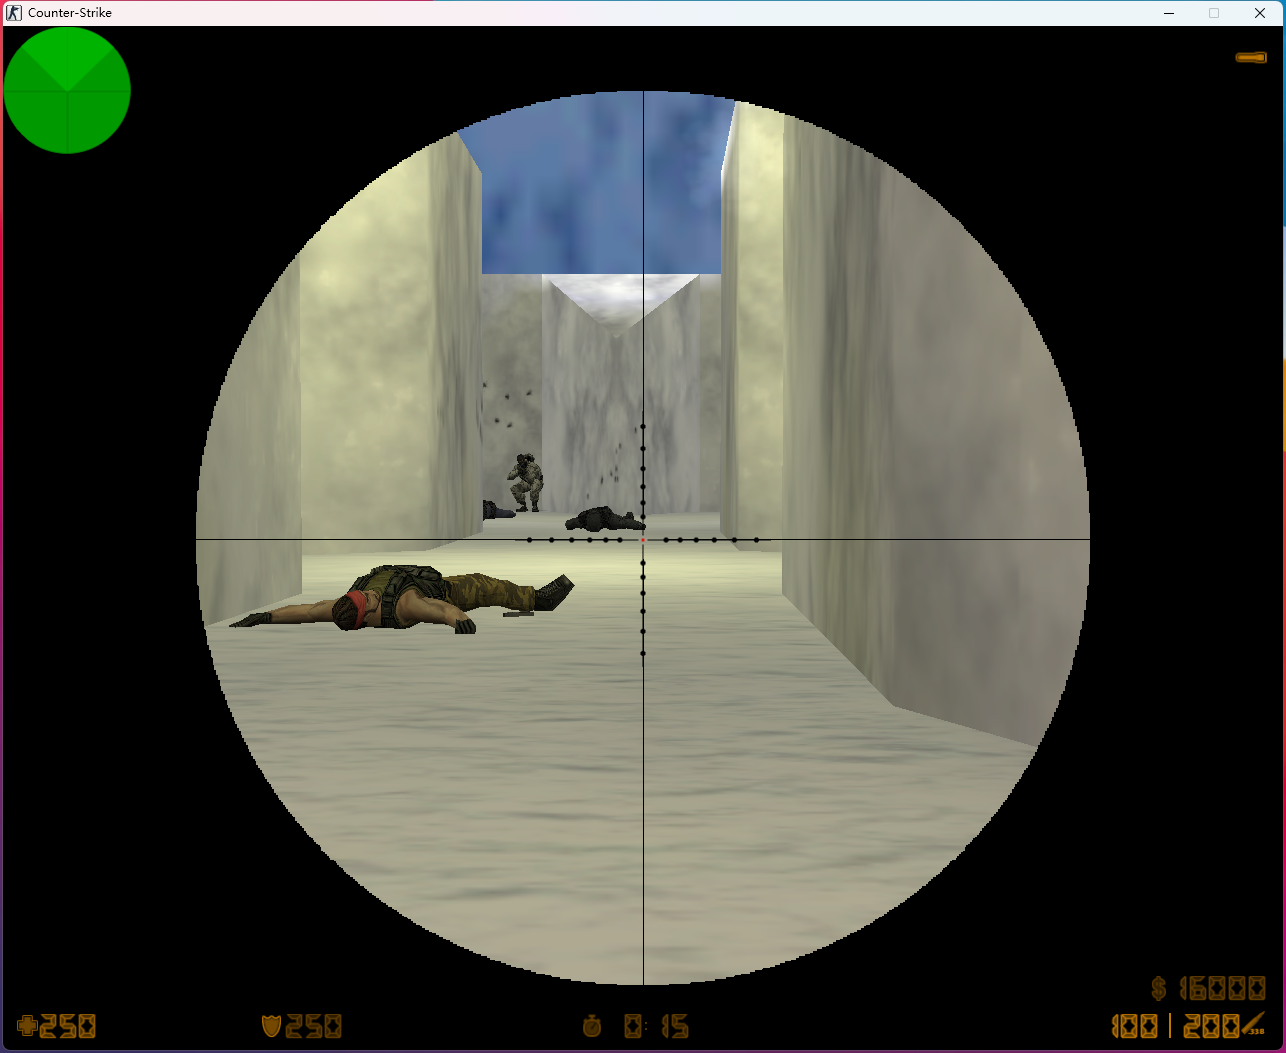T: (508, 453, 544, 512)
dead: (229, 563, 575, 636), (565, 503, 643, 532)
